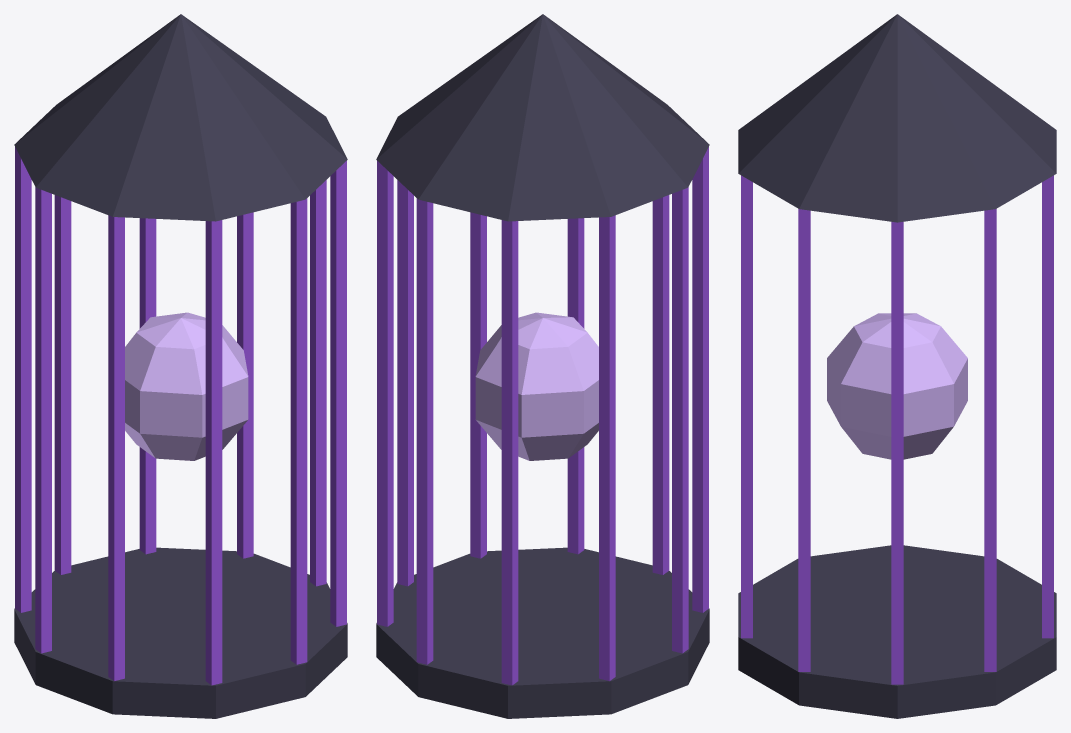
File: name_cage.glb
3 renders of one model, left to right at view 1: azimuth 30°, elevation 25°; view 2: azimuth 150°, elevation 25°; view 3: azimuth 270°, elevation 25°, orthographic.
Parts seen in each view (by area): view 1: name_cage; view 2: name_cage; view 3: name_cage.
Part boxes in pixels (x1,y1,x2,y2): name_cage: (14,14,347,718); name_cage: (376,14,709,718); name_cage: (738,14,1056,718).
Bounding box in the file's own units: 1.1 × 2.3 × 1.05.
